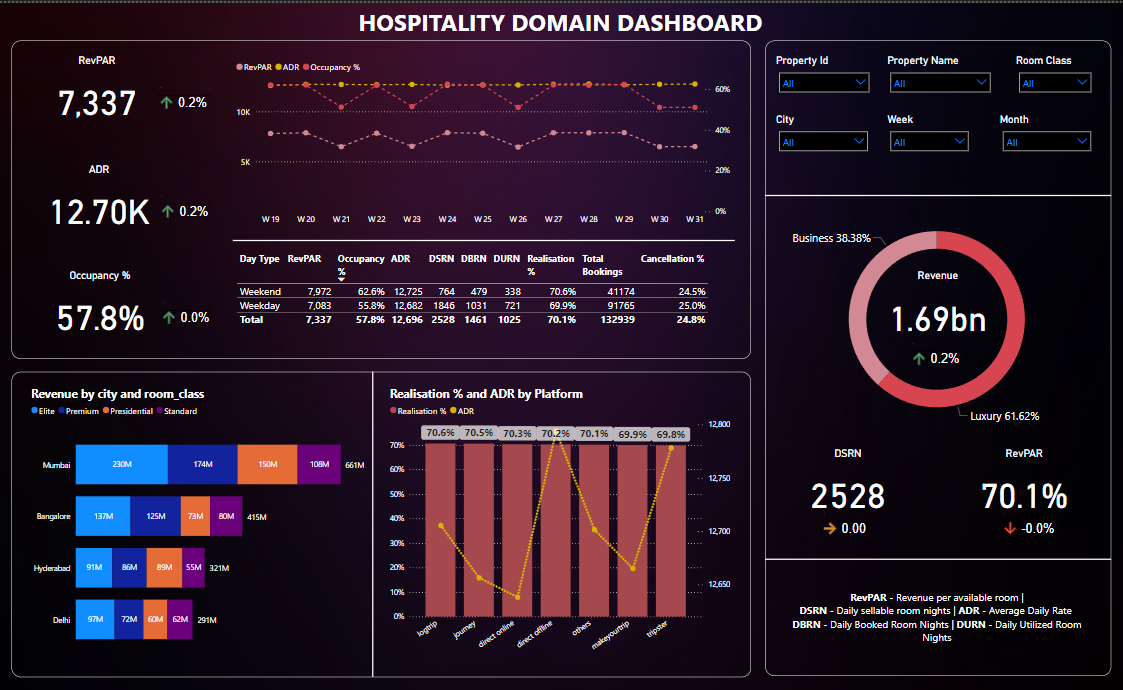

This screenshot's page, from the dashboard's own definition file:
{"tool":"powerbi","page":{"name":"Duplicate of Home","canvas":[1800,1100],"ordinal":0},"visuals":[{"type":"shape","box":[1225,158.3,553.3,300],"z":0},{"type":"shape","box":[1225,740,553.3,300],"z":1000},{"type":"shape","box":[316,590,564,488],"z":2000},{"type":"shape","box":[20.3,590.4,1182.8,489],"z":3000},{"type":"shape","box":[20.3,60.9,1182.8,509.2],"z":4000},{"type":"shape","box":[1225.4,60.9,553.9,1016.5],"z":5000},{"type":"lineChart","title":"Trend by Key Metrics","fields":{"Category":["dim_date.mmm yy.Variation.Date Hierarchy.Month","dim_date.week no"],"Y2":["key_measures.Occupancy %"],"Y":["key_measures.Rev Par","key_measures.ADR"]},"box":[373.3,81.7,803.3,281.7],"z":6000},{"type":"card","title":"RevPAR","fields":{"Values":["key_measures.RevPAR"]},"box":[40,82.5,232.5,125],"z":7000},{"type":"card","title":"ADR","fields":{"Values":["key_measures.ADR"]},"box":[45,255,227.5,125],"z":8000},{"type":"card","title":"Occupancy %","fields":{"Values":["key_measures.Occupancy %"]},"box":[50,425,222.5,125],"z":9000},{"type":"tableEx","fields":{"Values":["key_measures.Revpar WoW change %"]},"box":[245,115,122.5,92.5],"z":10000},{"type":"tableEx","fields":{"Values":["key_measures.Occupancy WoW change %"]},"box":[250,460,122.5,90],"z":11000},{"type":"tableEx","fields":{"Values":["key_measures.ADR WoW change %"]},"box":[247.5,290,122.5,90],"z":12000},{"type":"donutChart","title":"% Revenue by category","fields":{"Category":["dim_hotels.category"],"Y":["key_measures.Revenue"]},"box":[1243,302.6,513.3,408.3],"z":13000},{"type":"barChart","fields":{"Category":["dim_hotels.city"],"Series":["dim_rooms.room_class"],"Y":["key_measures.Revenue"]},"box":[45,611.7,543.3,446.7],"z":14000},{"type":"card","title":"DSRN","fields":{"Values":["key_measures.DSRN"]},"box":[1242.7,710.6,232,126],"z":15000},{"type":"card","title":"RevPAR","fields":{"Values":["key_measures.Realisation %"]},"box":[1524.7,710.6,232,126],"z":16000},{"type":"tableEx","fields":{"Values":["dim_date.day type","key_measures.Rev Par","key_measures.Occupancy %","key_measures.ADR","key_measures.DSRN","key_measures.DBRN","key_measures.DURN","key_measures.Realisation %","key_measures.Total Bookings","key_measures.Cancellation %"]},"box":[373.3,393.3,800,158.3],"z":17000},{"type":"tableEx","fields":{"Values":["key_measures.DSRN WoW change %"]},"box":[1308.7,798.6,122,92],"z":18000},{"type":"tableEx","fields":{"Values":["key_measures.Realisation WoW change %"]},"box":[1596.7,798.6,122,92],"z":19000},{"type":"shape","box":[373.3,230,803.3,300],"z":20000},{"type":"lineStackedColumnComboChart","title":"Realisation % and ADR by Platform","fields":{"Category":["fact_bookings.booking_platform"],"Y":["key_measures.Realisation %"],"Y2":["key_measures.ADR"]},"box":[620,611.7,555,446.7],"z":21000},{"type":"slicer","title":"Room Class","fields":{"Values":["dim_rooms.room_class"]},"box":[1622.2,82.2,135.6,63.3],"z":22000},{"type":"slicer","title":"City","fields":{"Values":["dim_hotels.city"]},"box":[1237.8,176.7,162.2,61.1],"z":23000},{"type":"slicer","title":"Month","fields":{"Values":["dim_date.mmm yy"]},"box":[1596.7,176.7,161.1,61.1],"z":24000},{"type":"slicer","title":"Week","fields":{"Values":["dim_date.week no"]},"box":[1416.7,176.7,145.6,81.1],"z":25000},{"type":"slicer","title":"Property Name","fields":{"Values":["dim_hotels.property_name"]},"box":[1416.7,82.2,180,76.7],"z":26000},{"type":"slicer","title":"Property Id","fields":{"Values":["dim_hotels.property_id"]},"box":[1237.8,82.2,164.4,76.7],"z":27000},{"type":"card","title":"Revenue","fields":{"Values":["key_measures.Revenue"]},"box":[1385.5,426.2,232,126],"z":28000},{"type":"tableEx","fields":{"Values":["key_measures.Revenue WoW change %"]},"box":[1449.5,526.2,122,92],"z":29000},{"type":"textbox","box":[1243.3,933.3,513.3,106.7],"z":30000},{"type":"textbox","box":[569.8,0,674.4,59.8],"z":31000}]}

Visuals, with their boxes in screenshot pixels (x1, y1, x2, y2), scaled from the page's 1800x1100 canvas onto the 1123x690 screenshot:
shape: pyautogui.locateOnScreen(764, 99, 1109, 287)
shape: pyautogui.locateOnScreen(764, 464, 1109, 652)
shape: pyautogui.locateOnScreen(197, 370, 549, 676)
shape: pyautogui.locateOnScreen(13, 370, 751, 677)
shape: pyautogui.locateOnScreen(13, 38, 751, 358)
shape: pyautogui.locateOnScreen(765, 38, 1110, 676)
"Trend by Key Metrics" lineChart: pyautogui.locateOnScreen(233, 51, 734, 228)
"RevPAR" card: pyautogui.locateOnScreen(25, 52, 170, 130)
"ADR" card: pyautogui.locateOnScreen(28, 160, 170, 238)
"Occupancy %" card: pyautogui.locateOnScreen(31, 267, 170, 345)
tableEx - key_measures.Revpar WoW change %: pyautogui.locateOnScreen(153, 72, 229, 130)
tableEx - key_measures.Occupancy WoW change %: pyautogui.locateOnScreen(156, 289, 232, 345)
tableEx - key_measures.ADR WoW change %: pyautogui.locateOnScreen(154, 182, 231, 238)
"% Revenue by category" donutChart: pyautogui.locateOnScreen(775, 190, 1096, 446)
barChart - dim_hotels.city x dim_rooms.room_class: pyautogui.locateOnScreen(28, 384, 367, 664)
"DSRN" card: pyautogui.locateOnScreen(775, 446, 920, 525)
"RevPAR" card: pyautogui.locateOnScreen(951, 446, 1096, 525)
tableEx - dim_date.day type x key_measures.Rev Par: pyautogui.locateOnScreen(233, 247, 732, 346)
tableEx - key_measures.DSRN WoW change %: pyautogui.locateOnScreen(816, 501, 893, 559)
tableEx - key_measures.Realisation WoW change %: pyautogui.locateOnScreen(996, 501, 1072, 559)
shape: pyautogui.locateOnScreen(233, 144, 734, 332)
"Realisation % and ADR by Platform" lineStackedColumnComboChart: pyautogui.locateOnScreen(387, 384, 733, 664)
"Room Class" slicer: pyautogui.locateOnScreen(1012, 52, 1097, 91)
"City" slicer: pyautogui.locateOnScreen(772, 111, 873, 149)
"Month" slicer: pyautogui.locateOnScreen(996, 111, 1097, 149)
"Week" slicer: pyautogui.locateOnScreen(884, 111, 975, 162)
"Property Name" slicer: pyautogui.locateOnScreen(884, 52, 996, 100)
"Property Id" slicer: pyautogui.locateOnScreen(772, 52, 875, 100)
"Revenue" card: pyautogui.locateOnScreen(864, 267, 1009, 346)
tableEx - key_measures.Revenue WoW change %: pyautogui.locateOnScreen(904, 330, 980, 388)
textbox: pyautogui.locateOnScreen(776, 585, 1096, 652)
textbox: pyautogui.locateOnScreen(355, 0, 776, 38)
